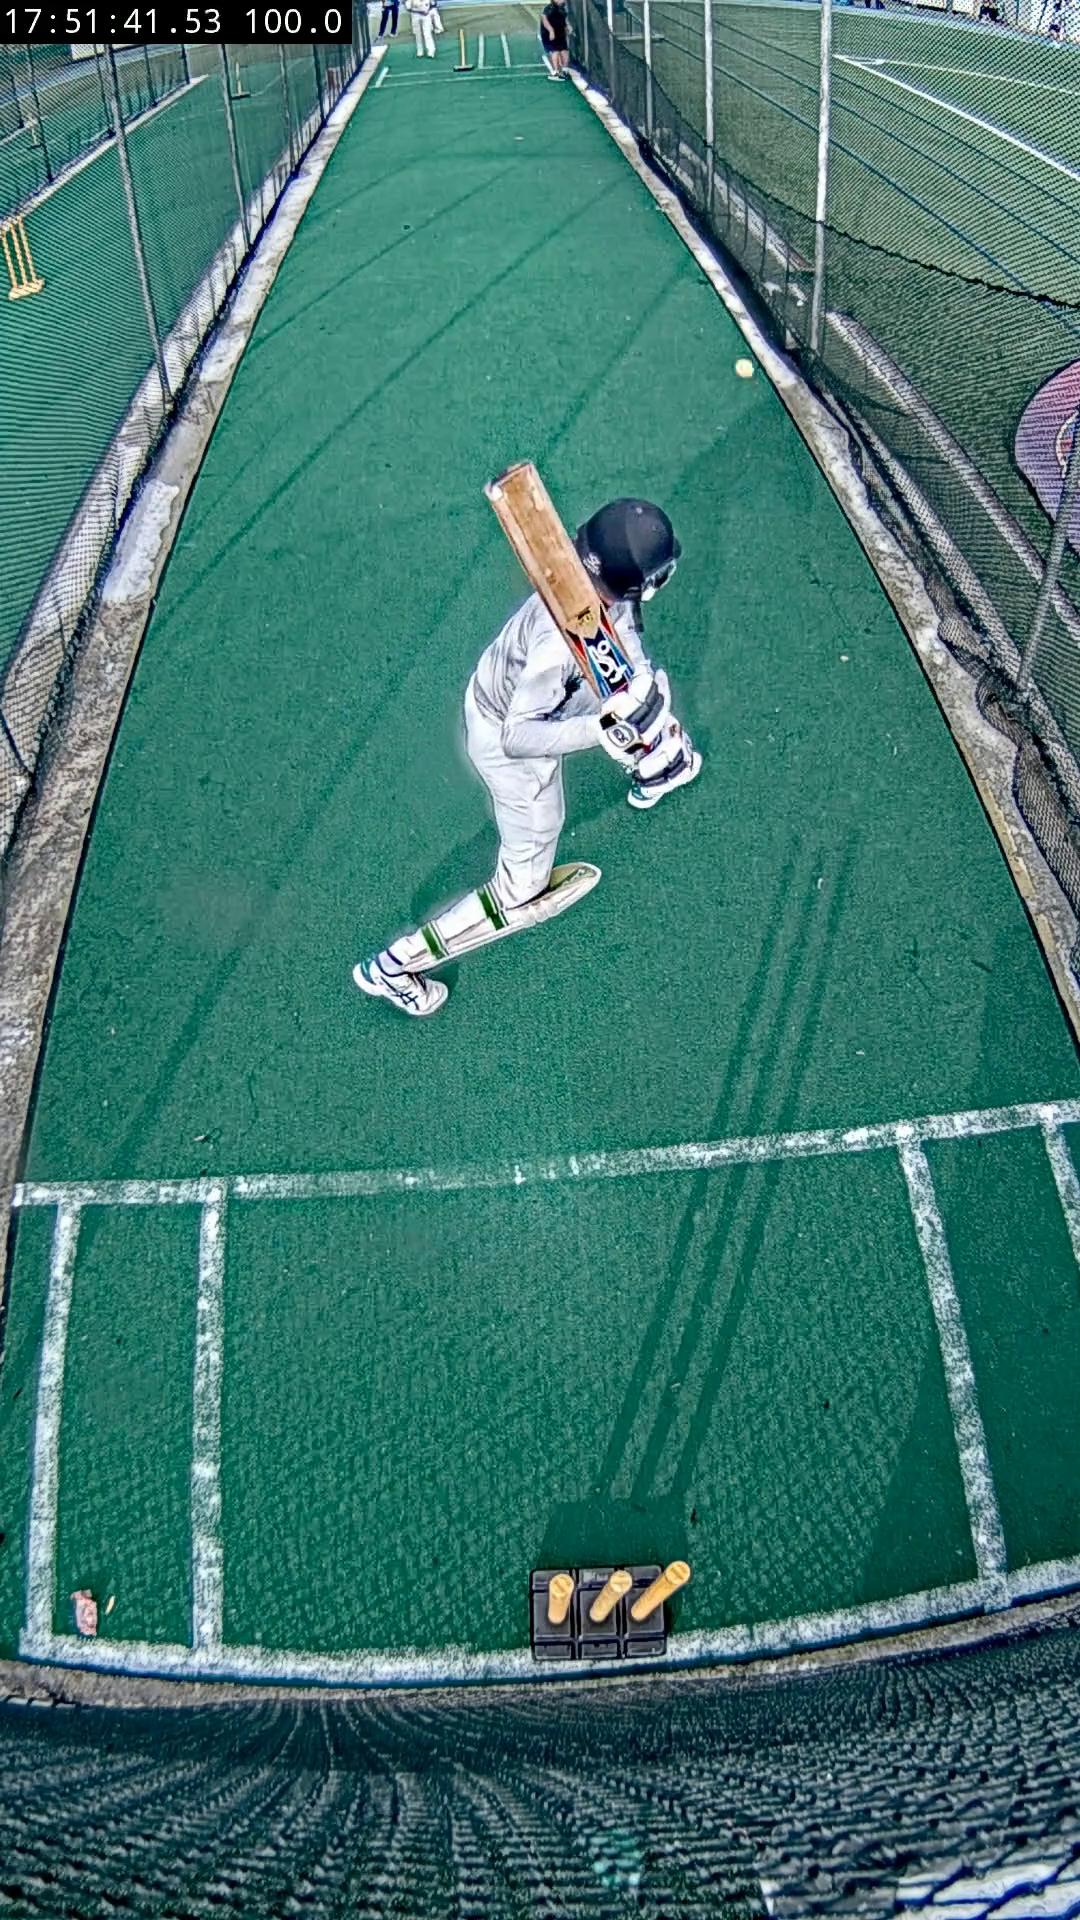ball: (735, 360, 754, 378)
bat: (488, 462, 630, 698)
gloves: (600, 667, 694, 781)
helmet: (574, 498, 683, 601)
pads: (405, 862, 600, 969)
stumps: (533, 1560, 690, 1662)
